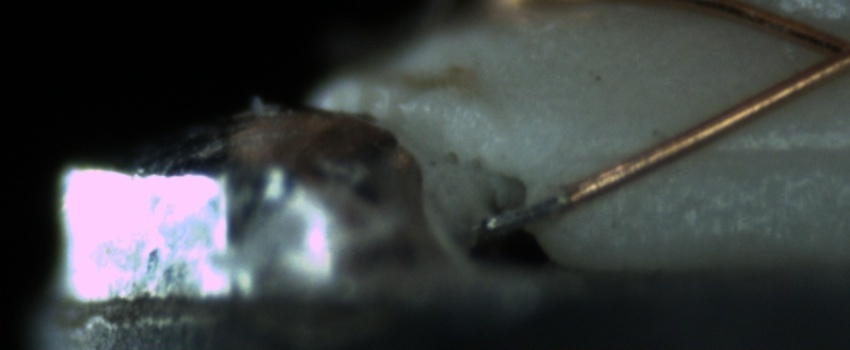CL: (798, 13, 850, 85)
DL: (624, 116, 849, 186)
TS: (476, 191, 560, 234)
